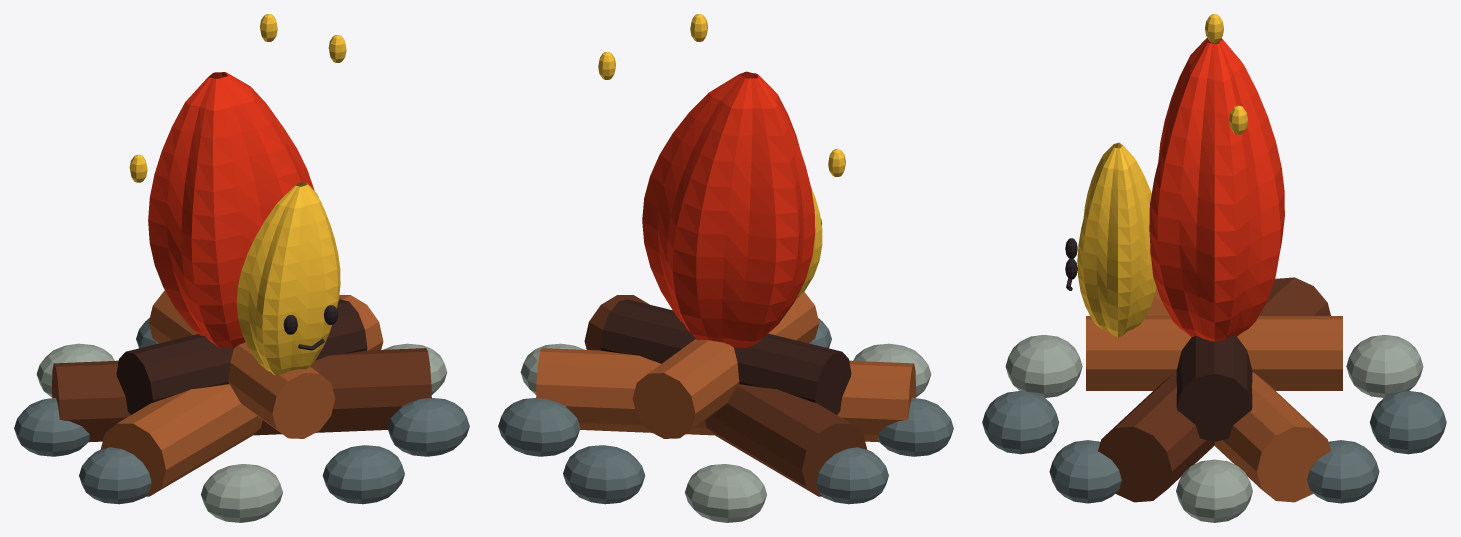
The model's file is ember_buddy.obj.
3 renders of one model, left to right at view 1: azimuth 30°, elevation 25°; view 2: azimuth 150°, elevation 25°; view 3: azimuth 270°, elevation 25°, orthographic. The views are drawn at different scales.
Parts seen in each view (by area): view 1: ember_buddy; view 2: ember_buddy; view 3: ember_buddy.
Part boxes in pixels (<box>): ember_buddy: <box>14,14,469,522</box>; ember_buddy: <box>498,14,953,522</box>; ember_buddy: <box>982,14,1446,522</box>.
Size of the model in its own units: 0.5852 by 0.596 by 0.5786.
